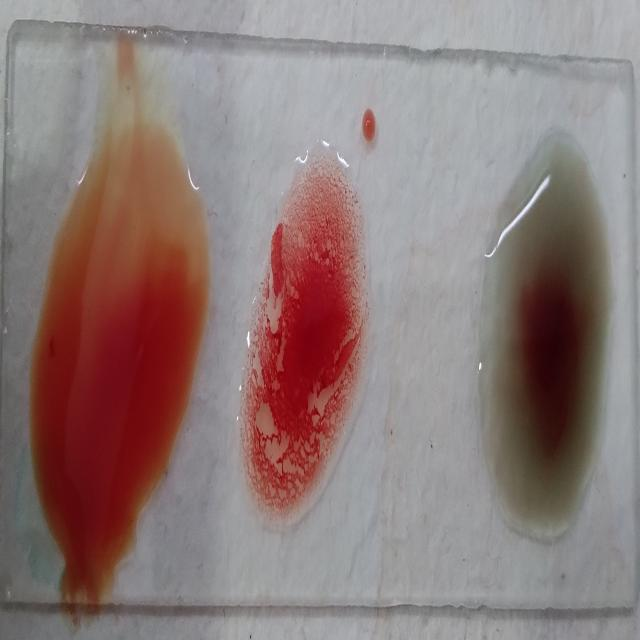D: (242, 153, 370, 522)
